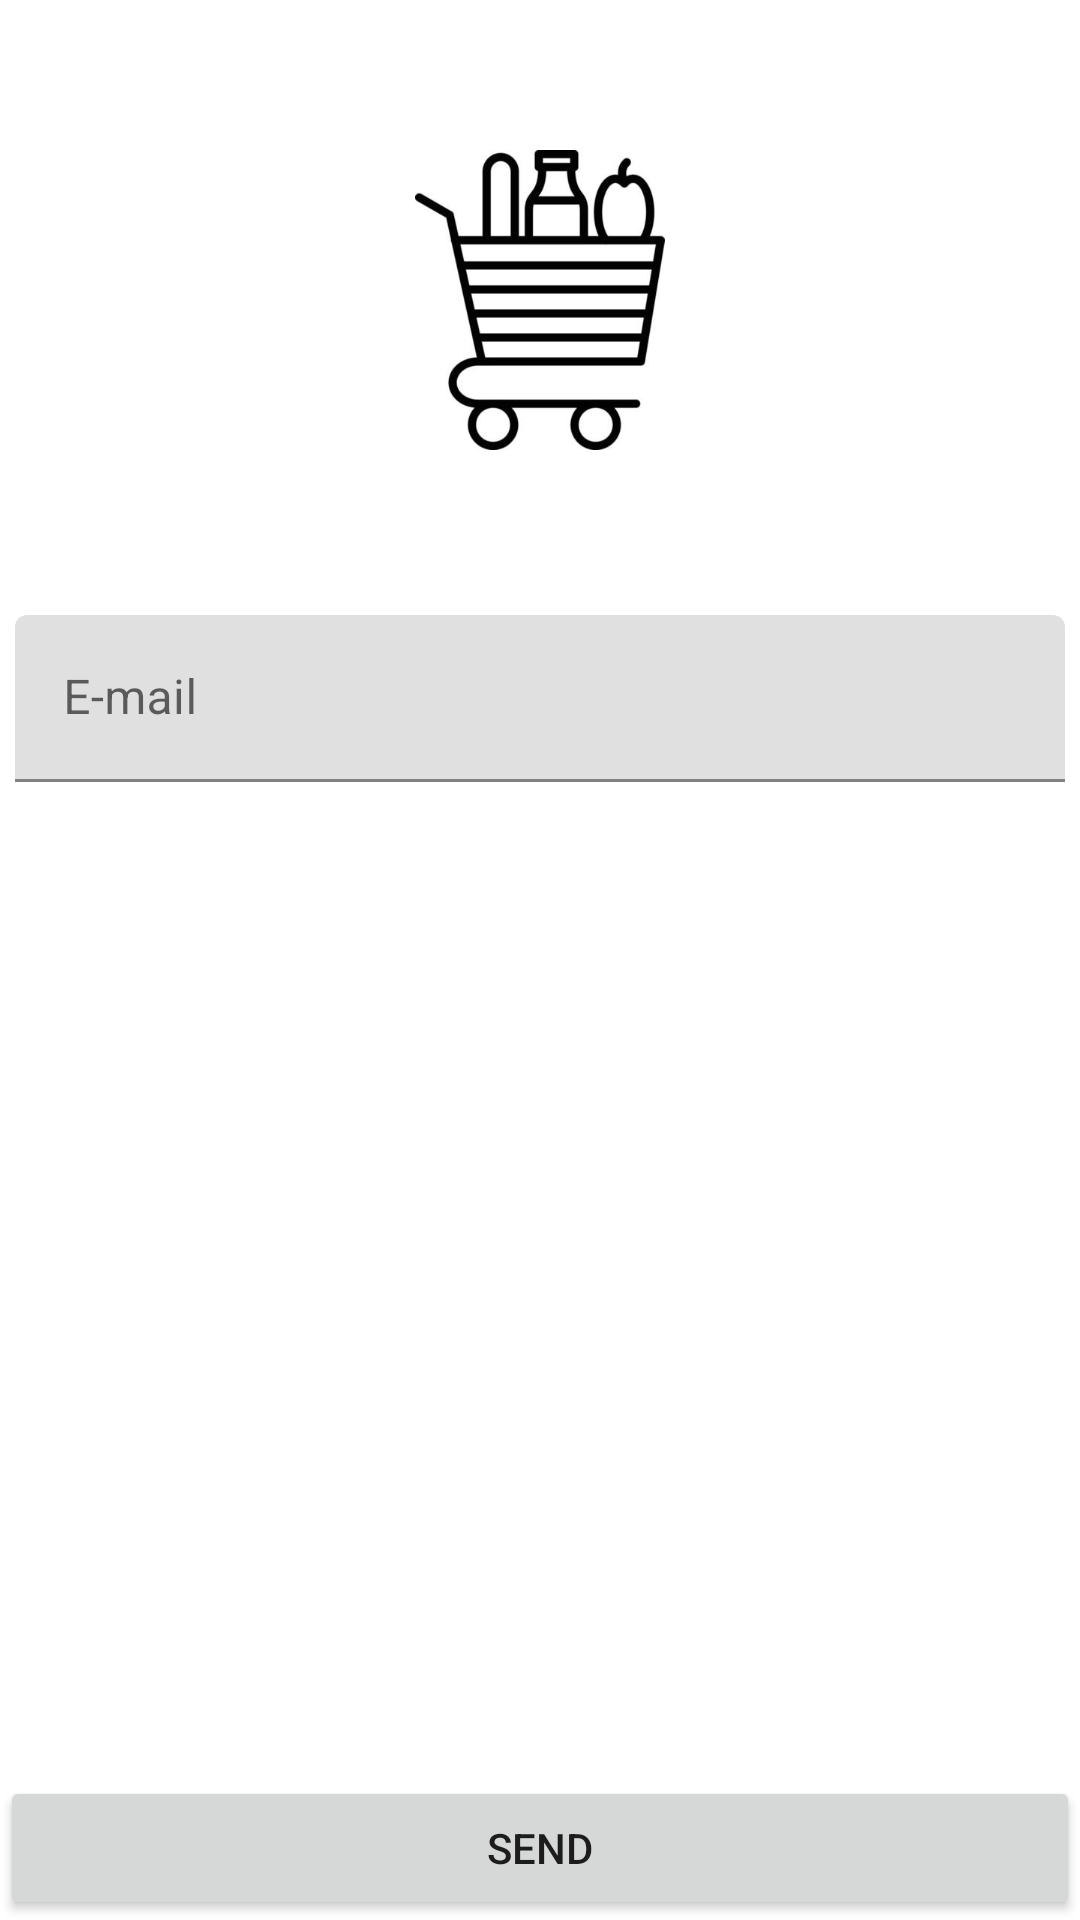

Icon click points for this 1080 × 1920 phone screenshot, format [x,y]:
cart: [540,300]
